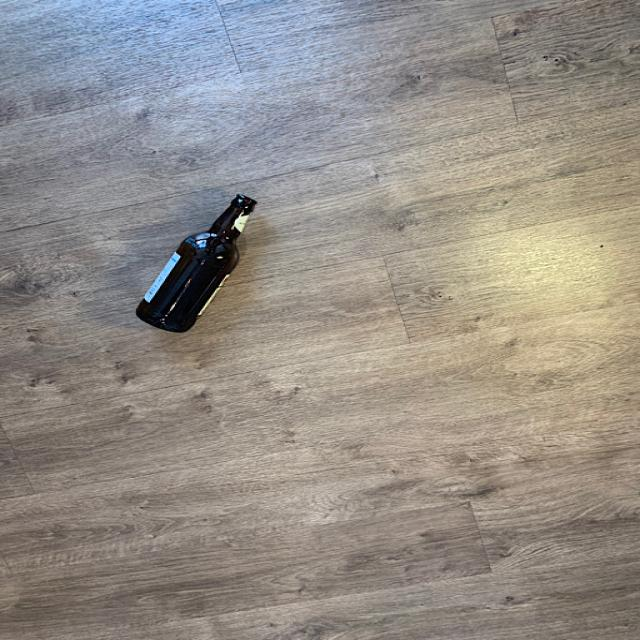litter: (132, 191, 264, 338)
